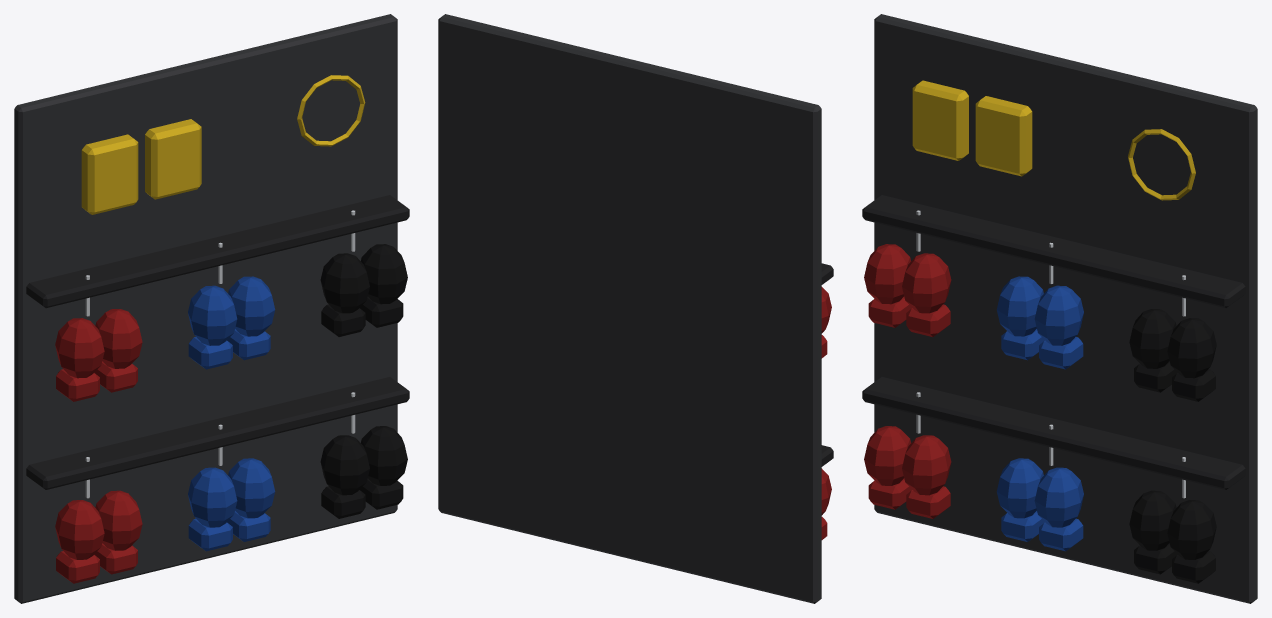
Rendered from glove_rack.glb.
3 views of the same model, side by side, from view 1: azimuth 30°, elevation 25°; view 2: azimuth 150°, elevation 25°; view 3: azimuth 330°, elevation 25° (orthographic).
Visible parts, largest first — view 1: glove_rack; view 2: glove_rack; view 3: glove_rack.
Part boxes in pixels (left/top/right/bottom): glove_rack: left=14, top=14, right=409, bottom=603; glove_rack: left=438, top=14, right=833, bottom=603; glove_rack: left=862, top=14, right=1257, bottom=603.
Size of the model in its own units: 1.2 by 1.5 by 0.235.
